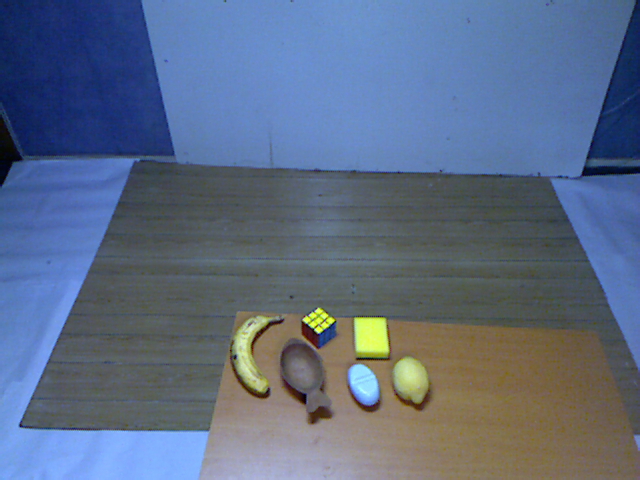cubix: (296, 302, 341, 352)
esponja: (348, 314, 395, 364)
jabon: (341, 359, 384, 411)
limon: (386, 351, 433, 408)
pescado: (270, 335, 338, 418)
platano: (225, 308, 290, 403)
